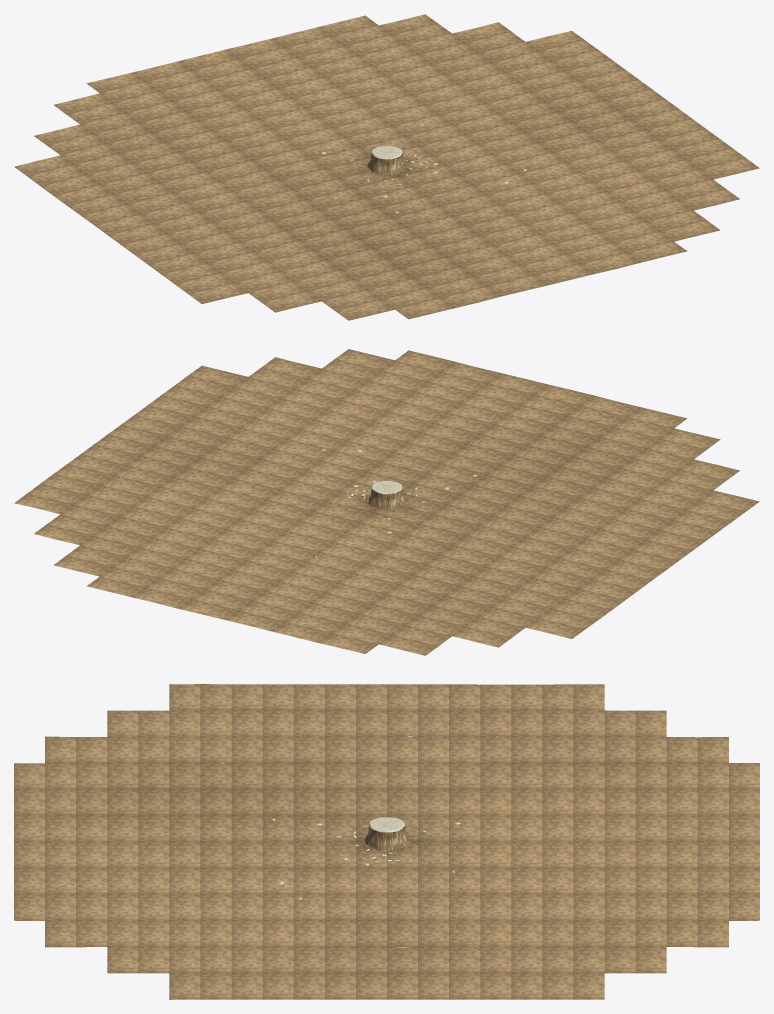
File: stump.gltf
3 renders of one model, top to bottom at view 1: azimuth 30°, elevation 25°; view 2: azimuth 150°, elevation 25°; view 3: azimuth 270°, elevation 25°, orthographic. The views are drawn at different scales.
Parts seen in each view (by area): view 1: stump_mesh; view 2: stump_mesh; view 3: stump_mesh.
Boxes of the visible parts, box(x1,y1,x2,y2) form: stump_mesh: box(14, 14, 759, 320); stump_mesh: box(14, 349, 759, 655); stump_mesh: box(14, 684, 759, 999).
Size of the model in its own units: 12 by 0.37 by 12.
Materials: 1 (1 with a texture image).
